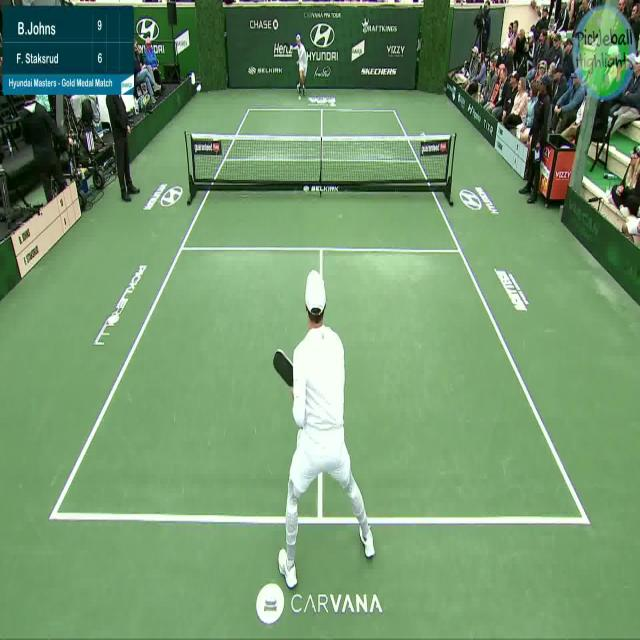ball: (298, 95, 302, 100)
